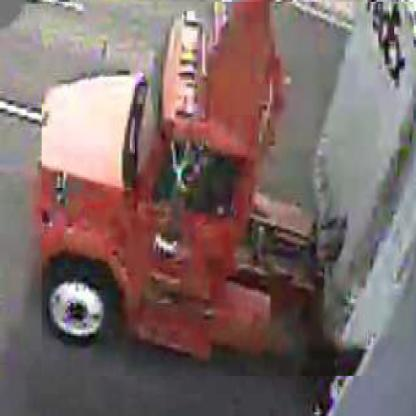container: (43, 3, 416, 379)
